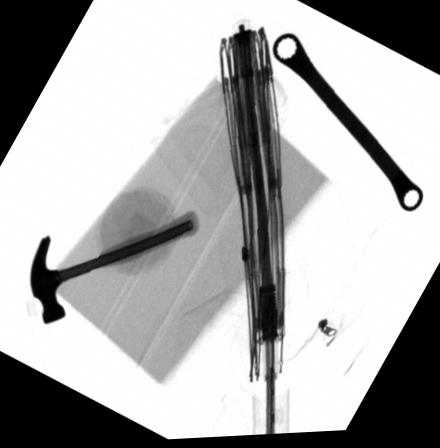Hammer: (29, 210, 200, 324)
Wrench: (273, 36, 422, 215)
